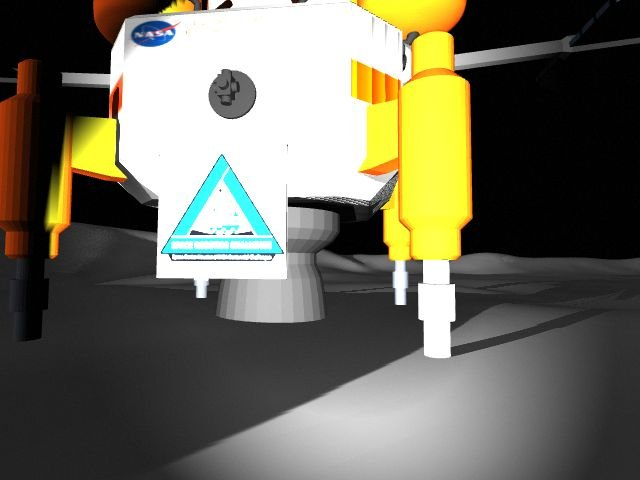basemarker: (159, 152, 284, 264)
